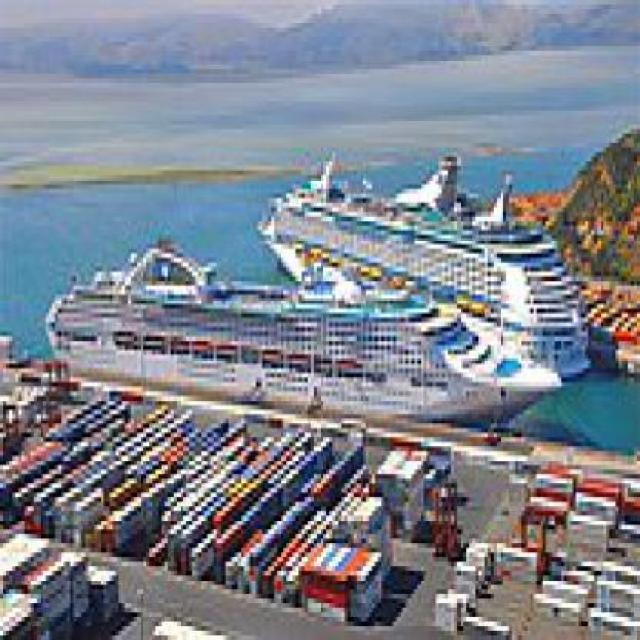cruise: (37, 226, 571, 439), (251, 139, 596, 383)
